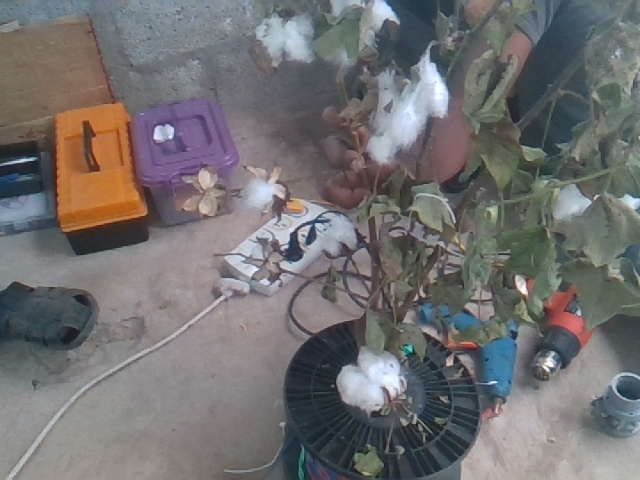cotton: (366, 59, 448, 162), (337, 348, 403, 405), (349, 1, 399, 63), (261, 15, 315, 64), (242, 175, 281, 211)
